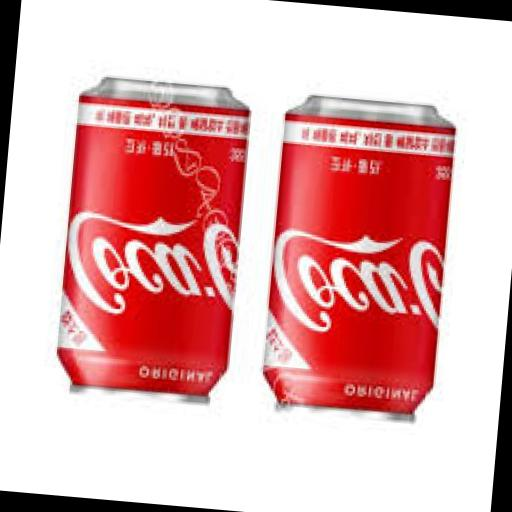Coca: (252, 83, 466, 440), (44, 69, 262, 418)
